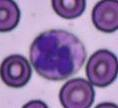N: (29, 30, 86, 79)
